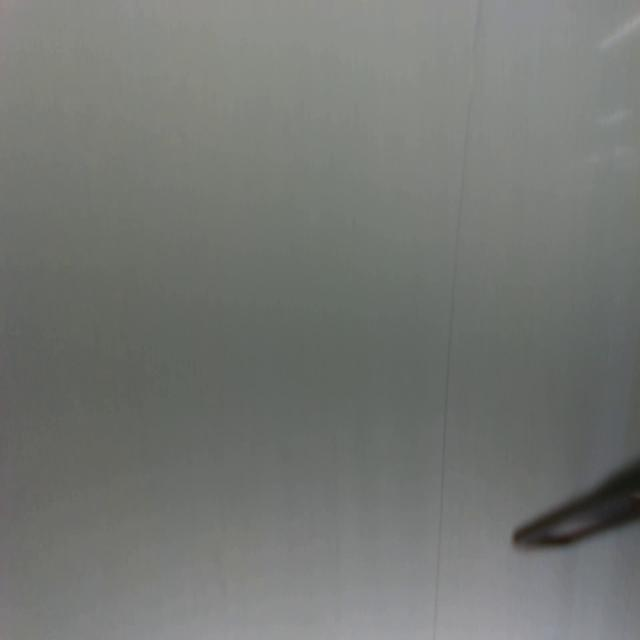crease: (432, 0, 484, 640)
